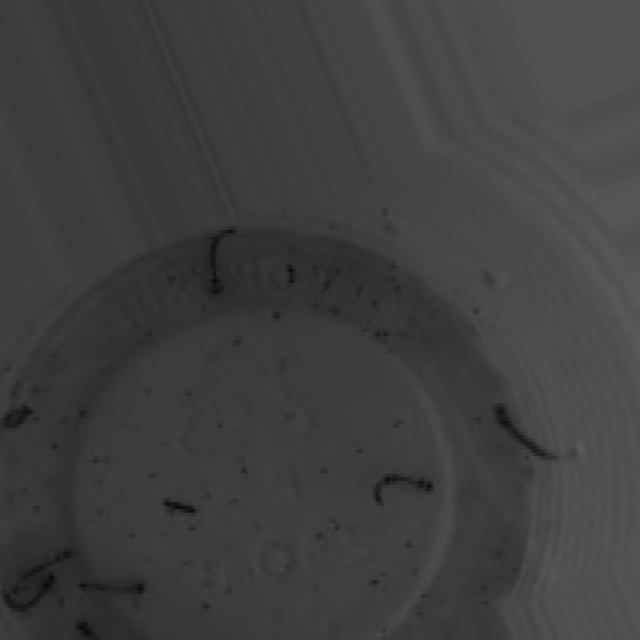larvas: (497, 401, 559, 461), (14, 540, 76, 593), (3, 572, 60, 618), (374, 471, 433, 507), (208, 228, 237, 297), (79, 578, 147, 596), (0, 404, 34, 432), (267, 264, 298, 291), (163, 498, 197, 516), (72, 622, 96, 640)
